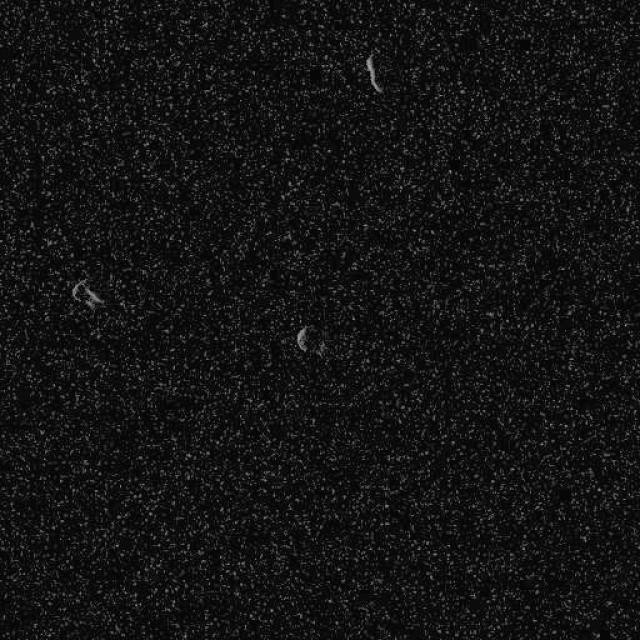D2: (294, 323, 328, 358), (70, 278, 105, 310), (364, 52, 384, 92)
